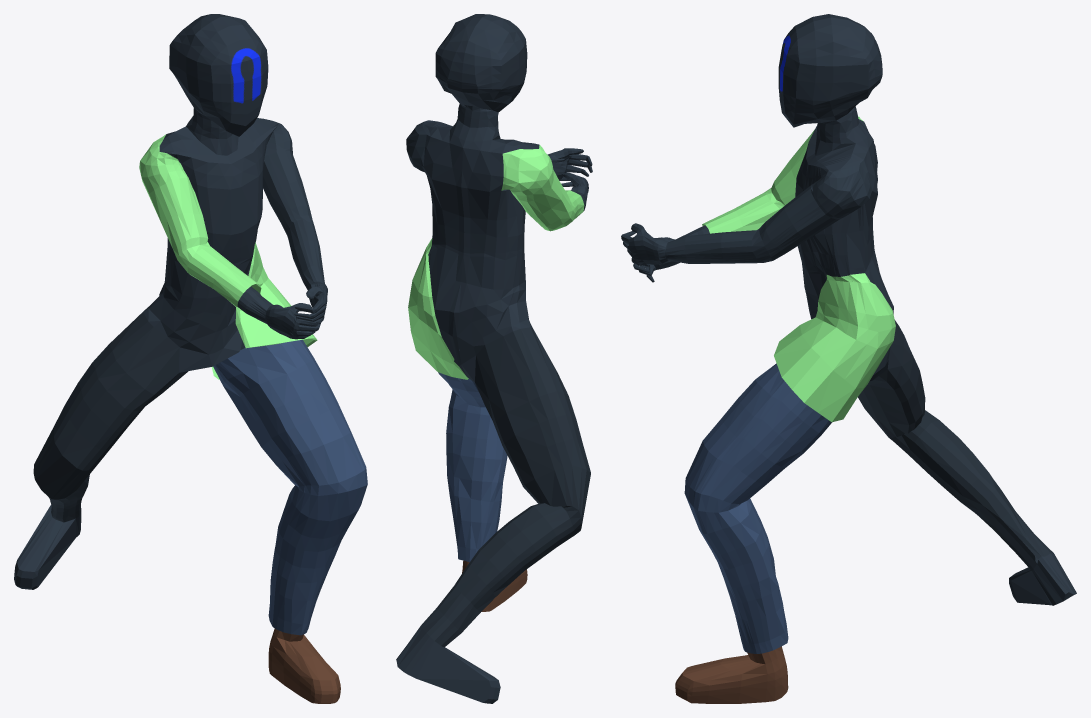
File: Mar_WB_000008.obj
3 views of the same model, side by side, from view 1: azimuth 30°, elevation 25°; view 2: azimuth 150°, elevation 25°; view 3: azimuth 270°, elevation 25° (orthographic). The views are drawn at different scales.
Parts seen in each view (by area): view 1: Cube.000_Cube.001; view 2: Cube.000_Cube.001; view 3: Cube.000_Cube.001.
Boxes of the visible parts, bbox=[...] form: Cube.000_Cube.001: bbox=[14, 14, 367, 703]; Cube.000_Cube.001: bbox=[396, 14, 592, 703]; Cube.000_Cube.001: bbox=[621, 14, 1076, 703].
Bounding box in the file's own units: 1.33 × 3.57 × 2.23.
